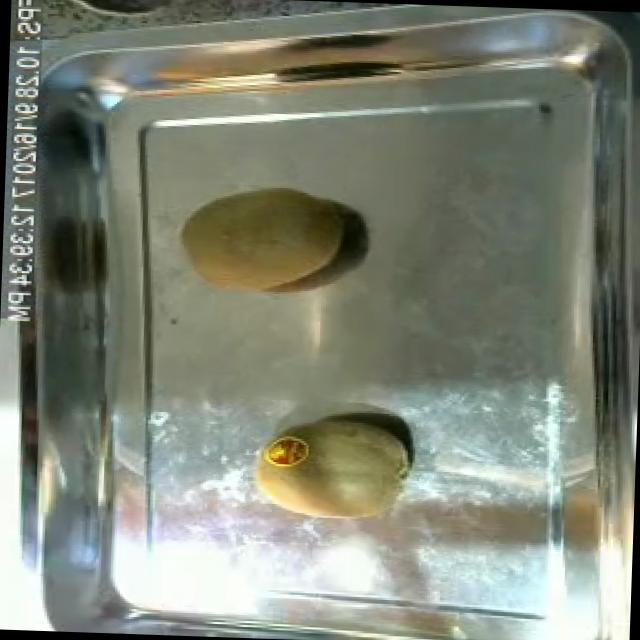Fruit: (174, 171, 360, 309), (244, 404, 424, 532)
